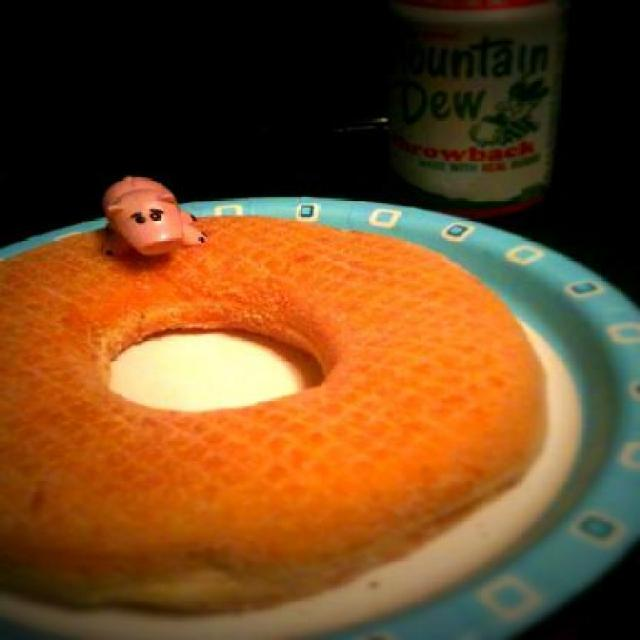Bagel: (0, 217, 551, 612)
